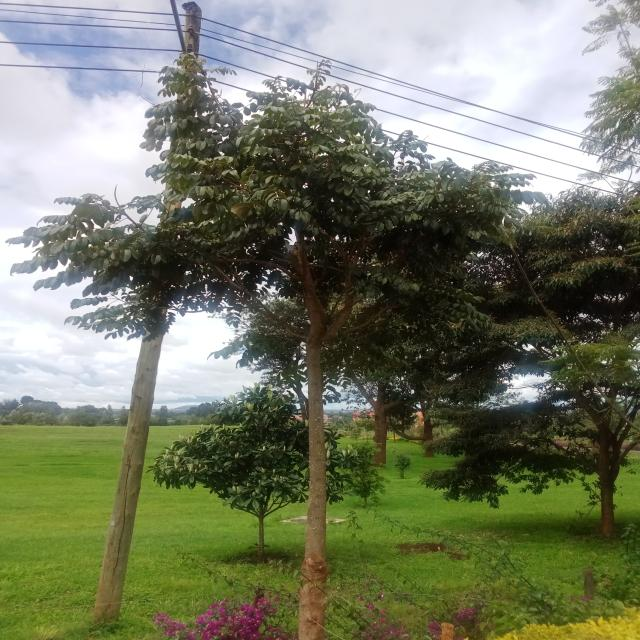Polyscias Kikuyensis: (21, 55, 535, 614)
Prunus Africana: (153, 376, 387, 547)
